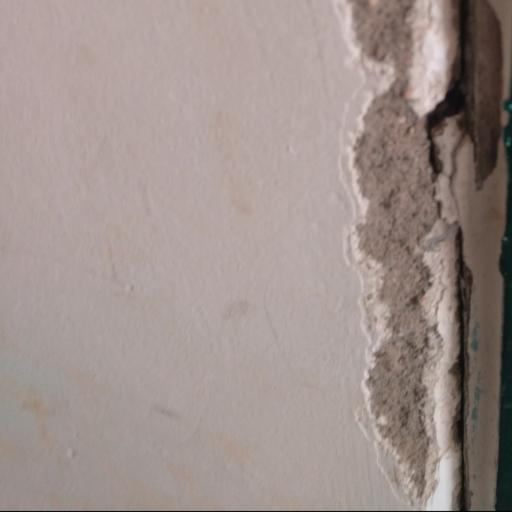spalling: (309, 0, 512, 512)
